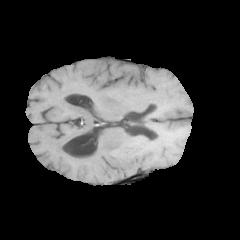glioma: (52, 134, 161, 183)
